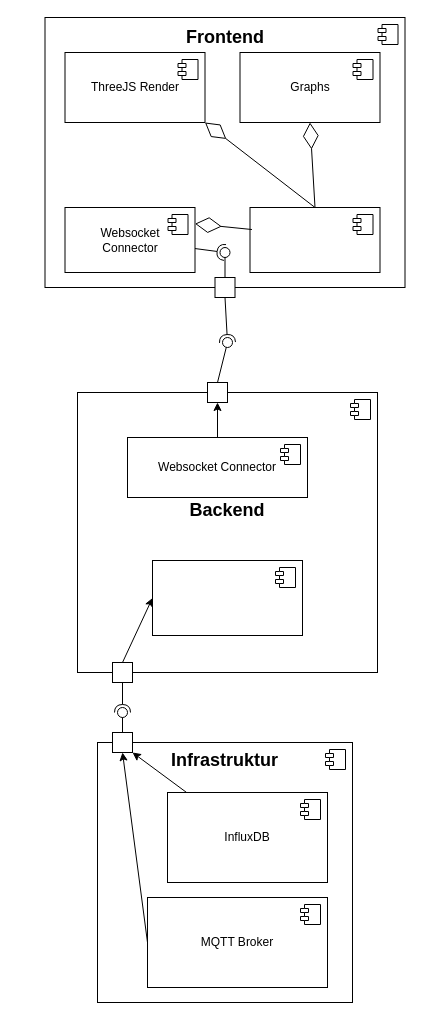
This 422x1020 diagram has some shape labels left out. The centre of each missing label's shape, as x and y in pixels:
Database + MQTT Connector: point (227, 598)
Redux Store: point (314, 239)
